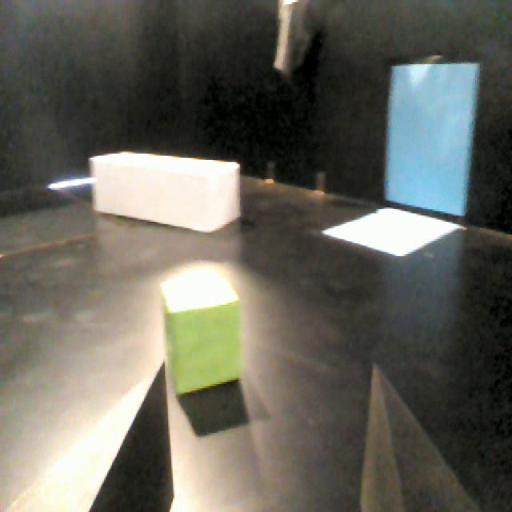cube: (152, 272, 246, 390)
